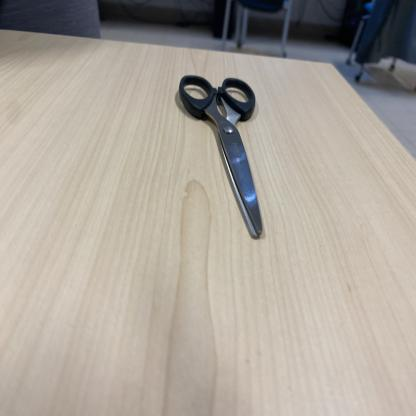scissors: (178, 75, 264, 240)
